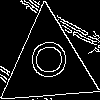O: (23, 39, 67, 82)
